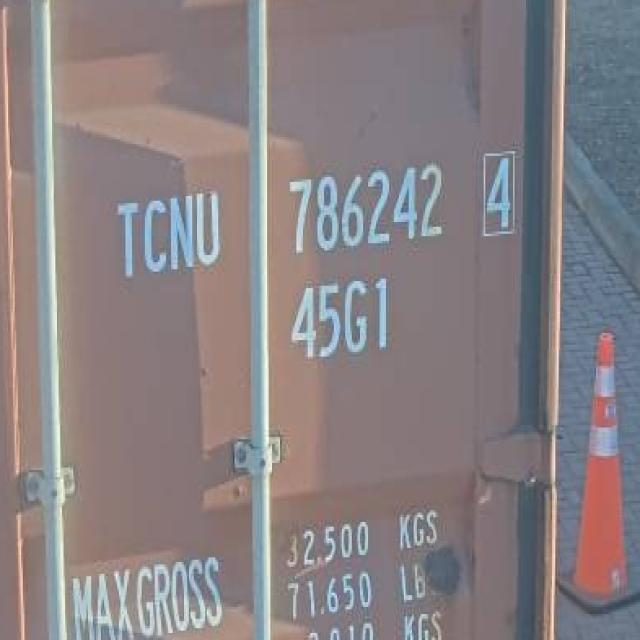dv: (474, 144, 523, 243)
owner: (106, 178, 230, 288)
serial: (278, 156, 454, 259)
size: (284, 270, 405, 365)
